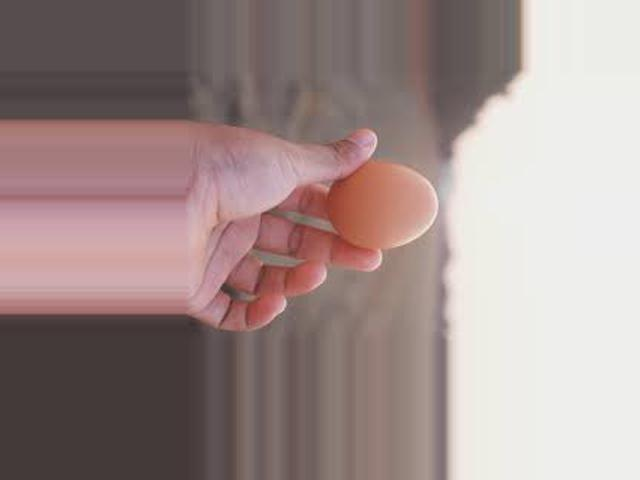egg: (328, 162, 437, 249)
